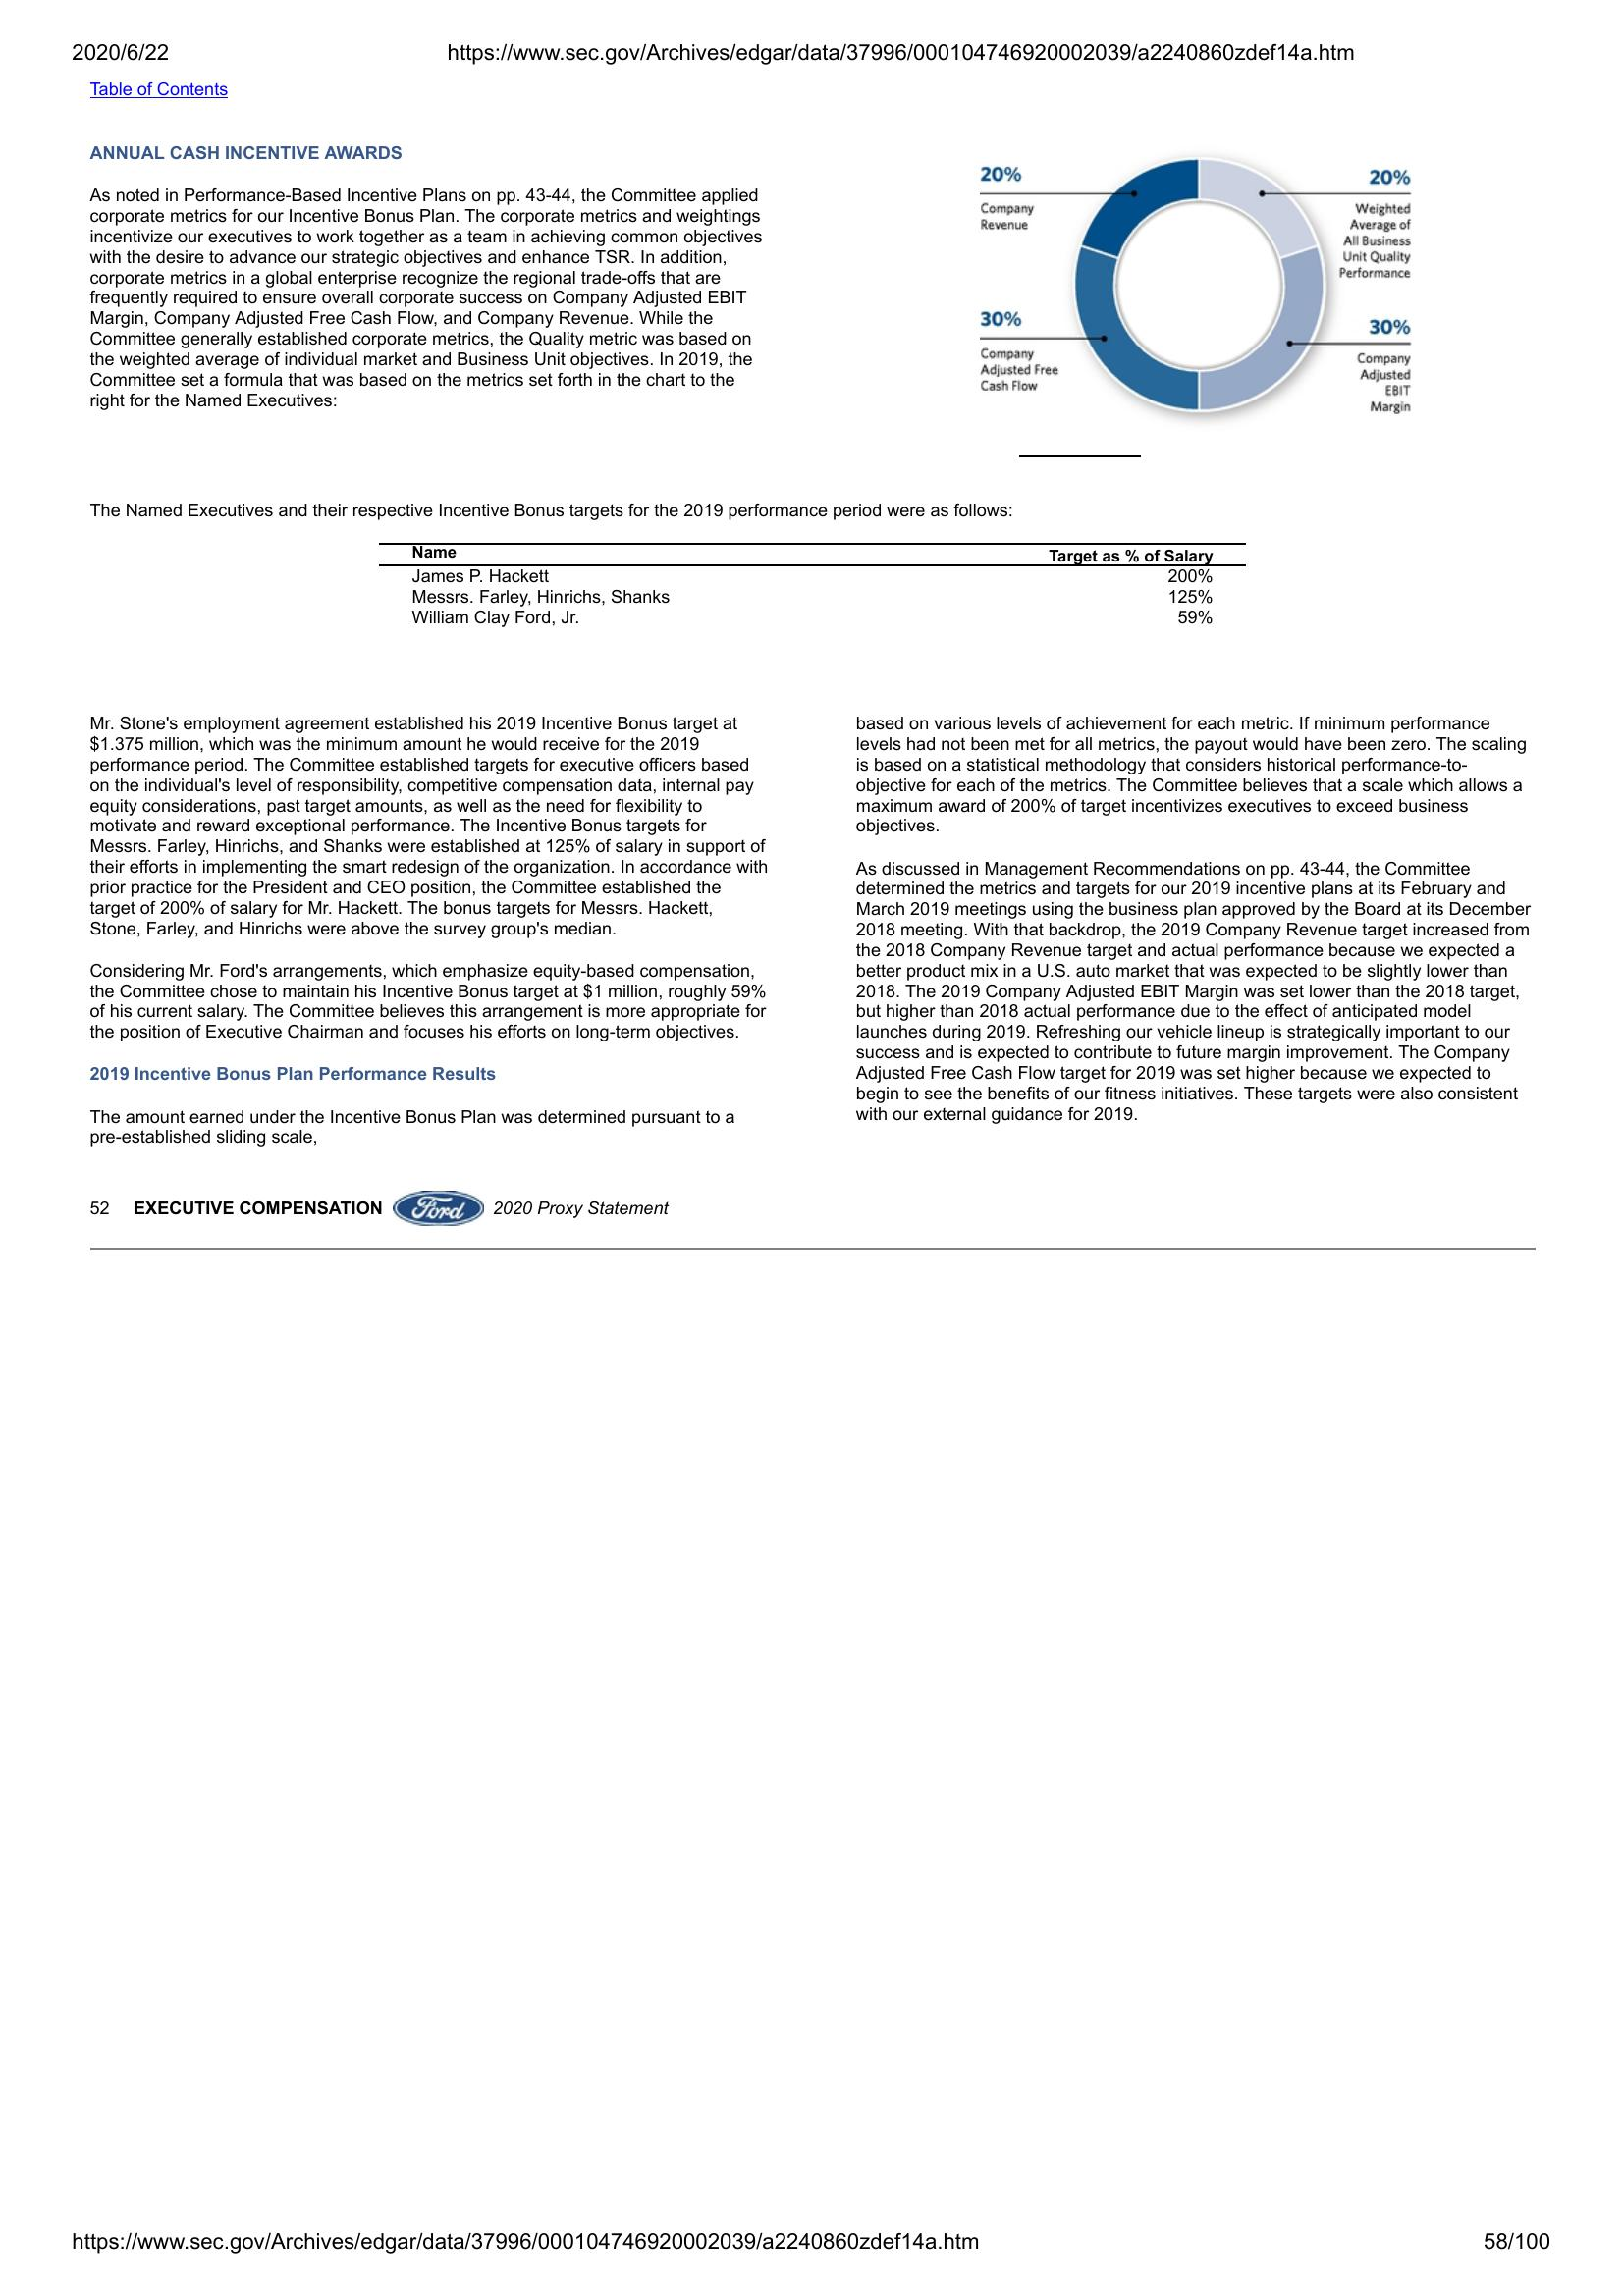table: (379, 537, 1247, 634)
